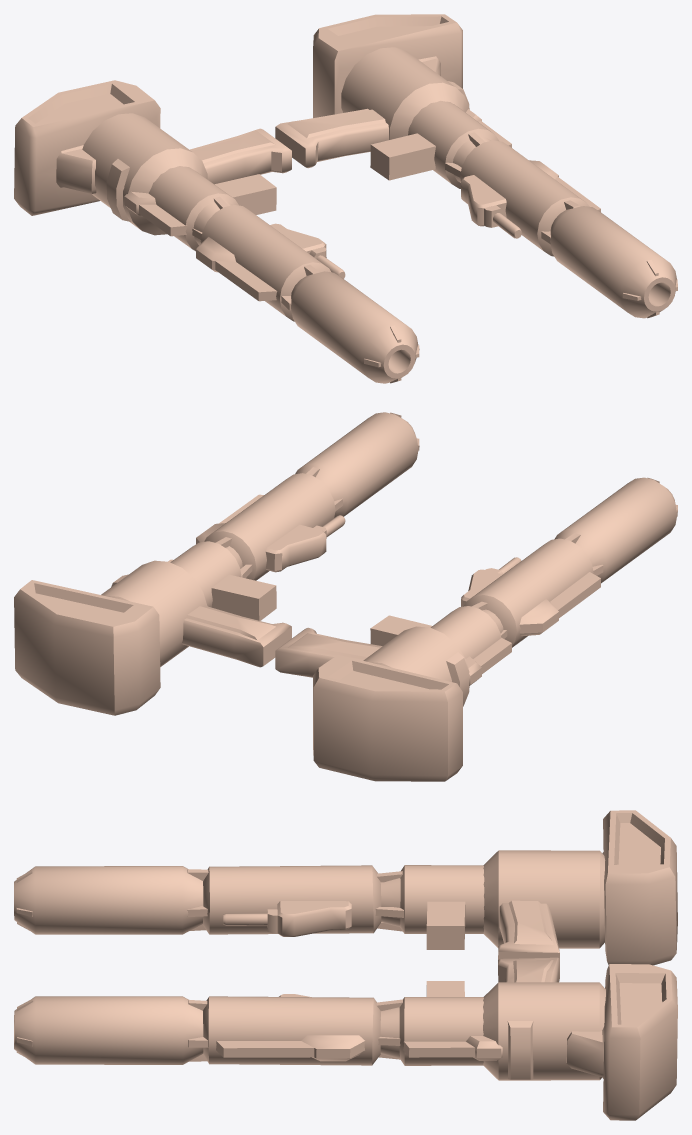
Rendered from Clone Gman Lasers.fbx.
3 views of the same model, one above another, from view 1: azimuth 30°, elevation 25°; view 2: azimuth 150°, elevation 25°; view 3: azimuth 270°, elevation 25° (orthographic). The views are drawn at different scales.
Visible parts, largest first — view 1: Optimus_Gun.SMD.001, Optimus_Gun.SMD; view 2: Optimus_Gun.SMD, Optimus_Gun.SMD.001; view 3: Optimus_Gun.SMD, Optimus_Gun.SMD.001.
Part boxes in pixels (x1,y1,x2,y2): Optimus_Gun.SMD.001: [14, 80, 419, 383]; Optimus_Gun.SMD: [275, 14, 677, 318]; Optimus_Gun.SMD: [14, 412, 419, 715]; Optimus_Gun.SMD.001: [275, 477, 677, 781]; Optimus_Gun.SMD: [14, 957, 677, 1120]; Optimus_Gun.SMD.001: [14, 810, 677, 965].
Size of the model in its own units: 270 by 55.26 by 341.
